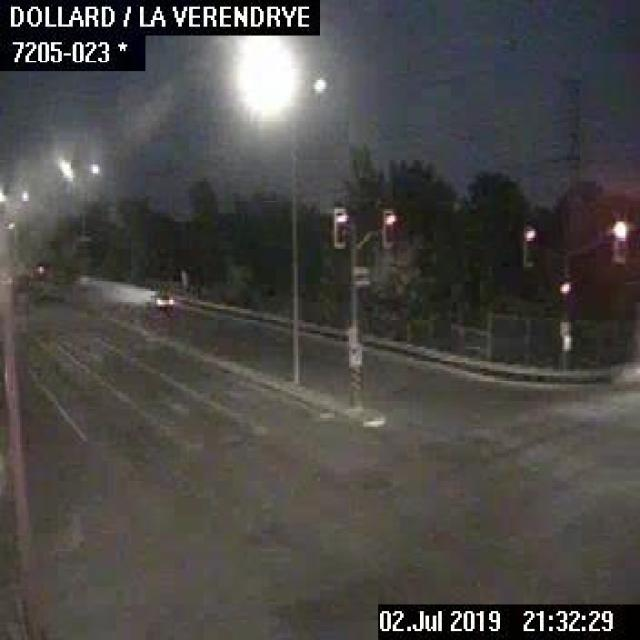vehicle: (144, 286, 177, 314)
